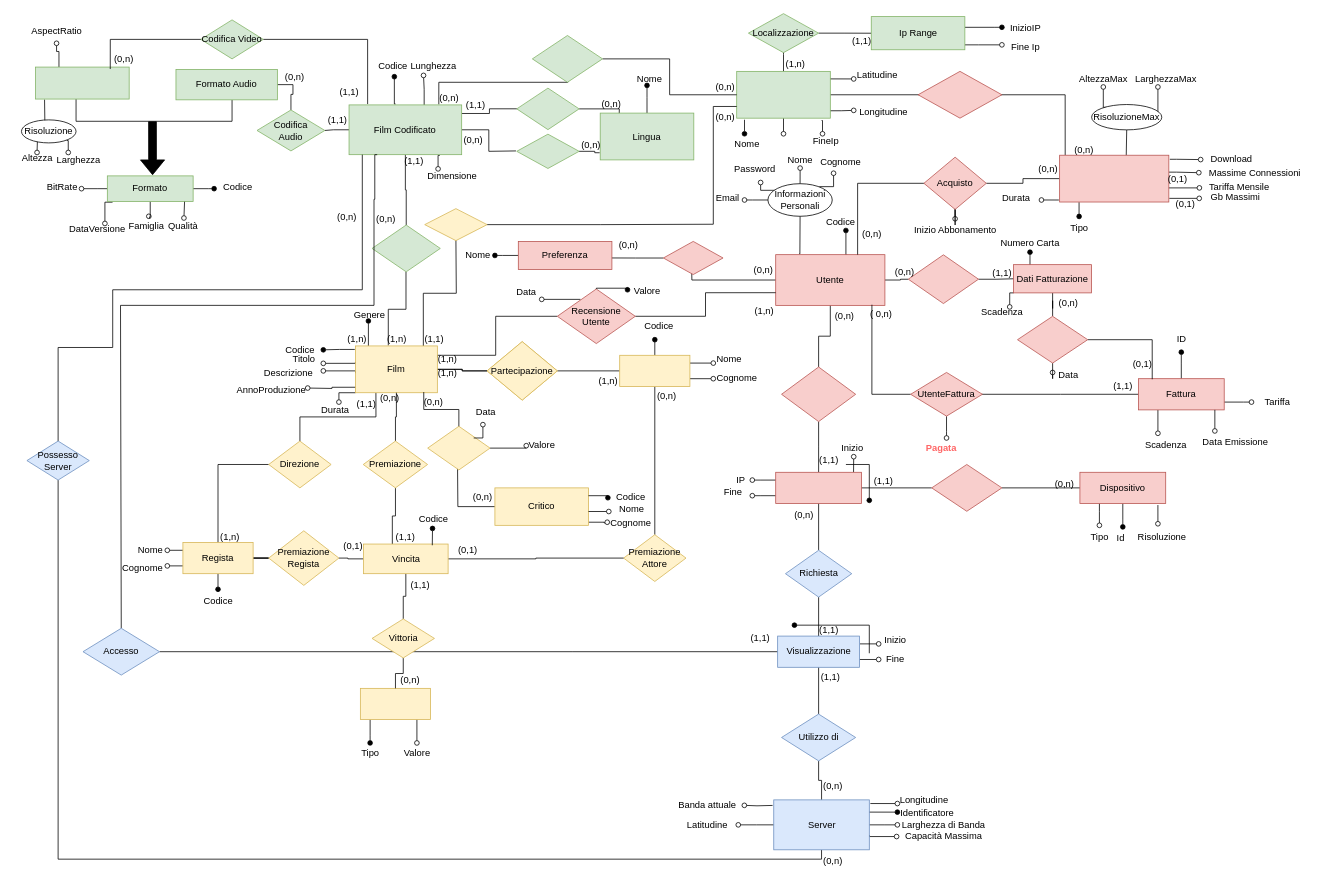
Some shapes in this 1322 by 887 pixel diagram are drawn without their labels. The box of each missing label's shape, as (x1, y1, x2, y2) in pixels:
Abbonamento: (1059, 154, 1169, 202)
Area Geografica: (736, 71, 830, 118)
Attori: (619, 355, 690, 386)
Audio: (516, 87, 579, 130)
Codifica: (371, 224, 440, 272)
Connessione: (775, 472, 862, 503)
Formato Video: (35, 66, 129, 99)
Inizializzazione: (781, 366, 856, 422)
Pagamento: (1017, 316, 1088, 363)
Possesso: (908, 254, 979, 304)
Premio: (360, 688, 431, 720)
Produzione: (424, 208, 487, 241)
Recensione: (427, 425, 490, 470)
Restrizione Abbonamento: (917, 71, 1002, 118)
Restrizione Formato: (532, 35, 603, 82)
Selezione: (663, 241, 723, 275)
Sottotitolo: (516, 133, 579, 168)
Utilizzo: (931, 464, 1002, 511)
